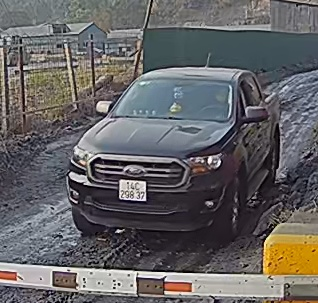vehicle plate: (117, 175, 148, 201)
